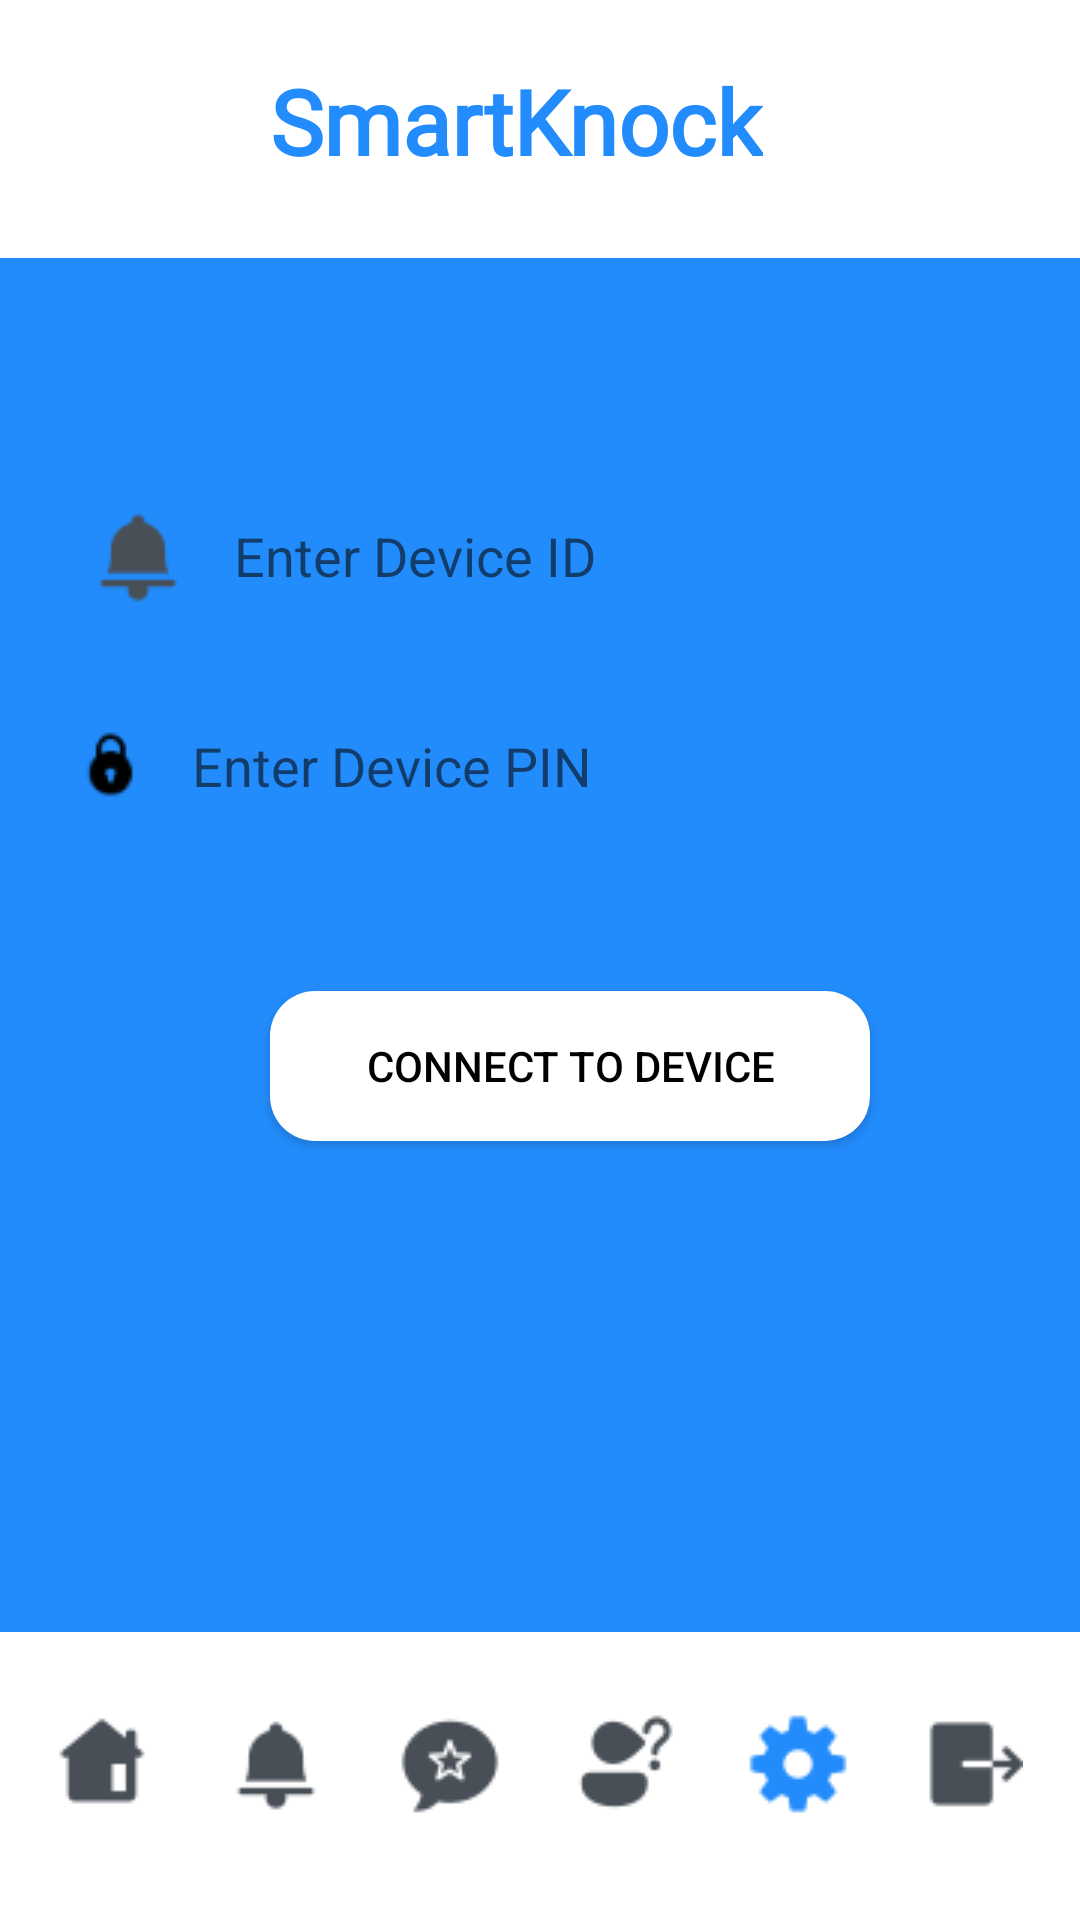

Icon bounding boxes for this 1080 × 1920 phone screenshot, format (x1, y1, x2, y2):
doorbell: (237, 1721, 315, 1810)
feedback: (401, 1719, 499, 1813)
helpcenter: (580, 1715, 673, 1808)
home: (59, 1718, 145, 1804)
settingsblue: (749, 1715, 847, 1813)
